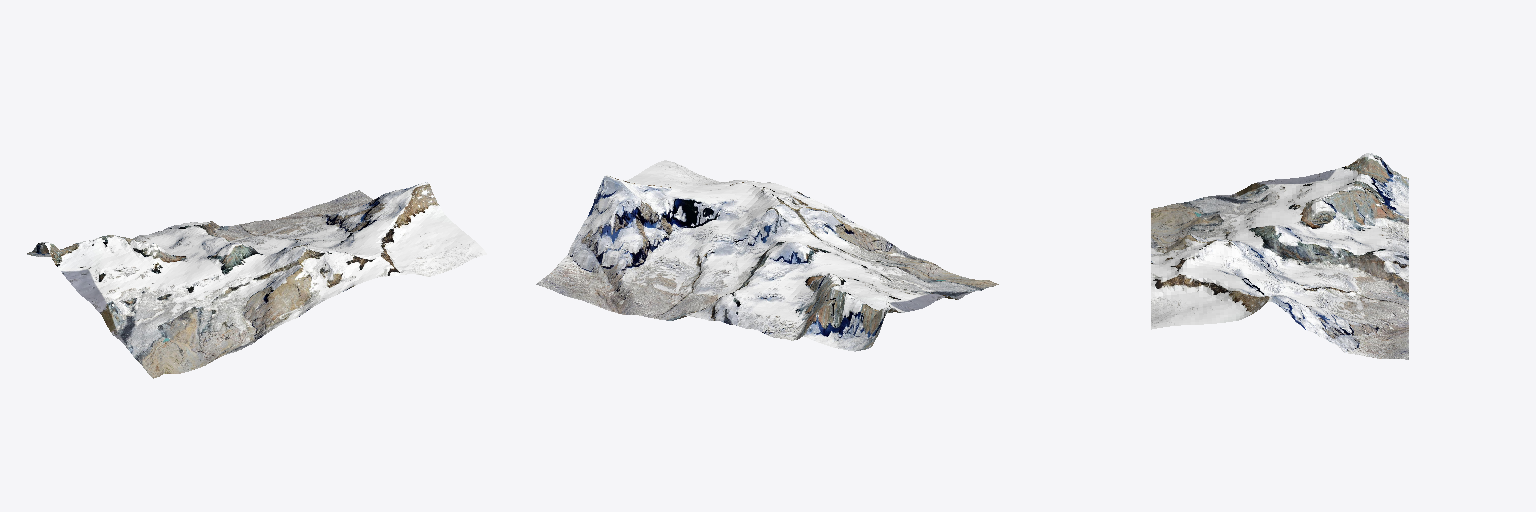
The picture shows the model from 3 angles: view 1: azimuth 30°, elevation 25°; view 2: azimuth 150°, elevation 25°; view 3: azimuth 270°, elevation 25°; orthographic projection.
Parts seen in each view (by area): view 1: EXPORT_GOOGLE_SAT_WM.013; view 2: EXPORT_GOOGLE_SAT_WM.013; view 3: EXPORT_GOOGLE_SAT_WM.013.
Part boxes in pixels (x1,y1,x2,y2): EXPORT_GOOGLE_SAT_WM.013: (27, 182, 486, 378); EXPORT_GOOGLE_SAT_WM.013: (536, 160, 998, 351); EXPORT_GOOGLE_SAT_WM.013: (1151, 153, 1408, 359).
Bounding box in the file's own units: 9124 × 1892 × 6083.
Materials: 1 (1 with a texture image).